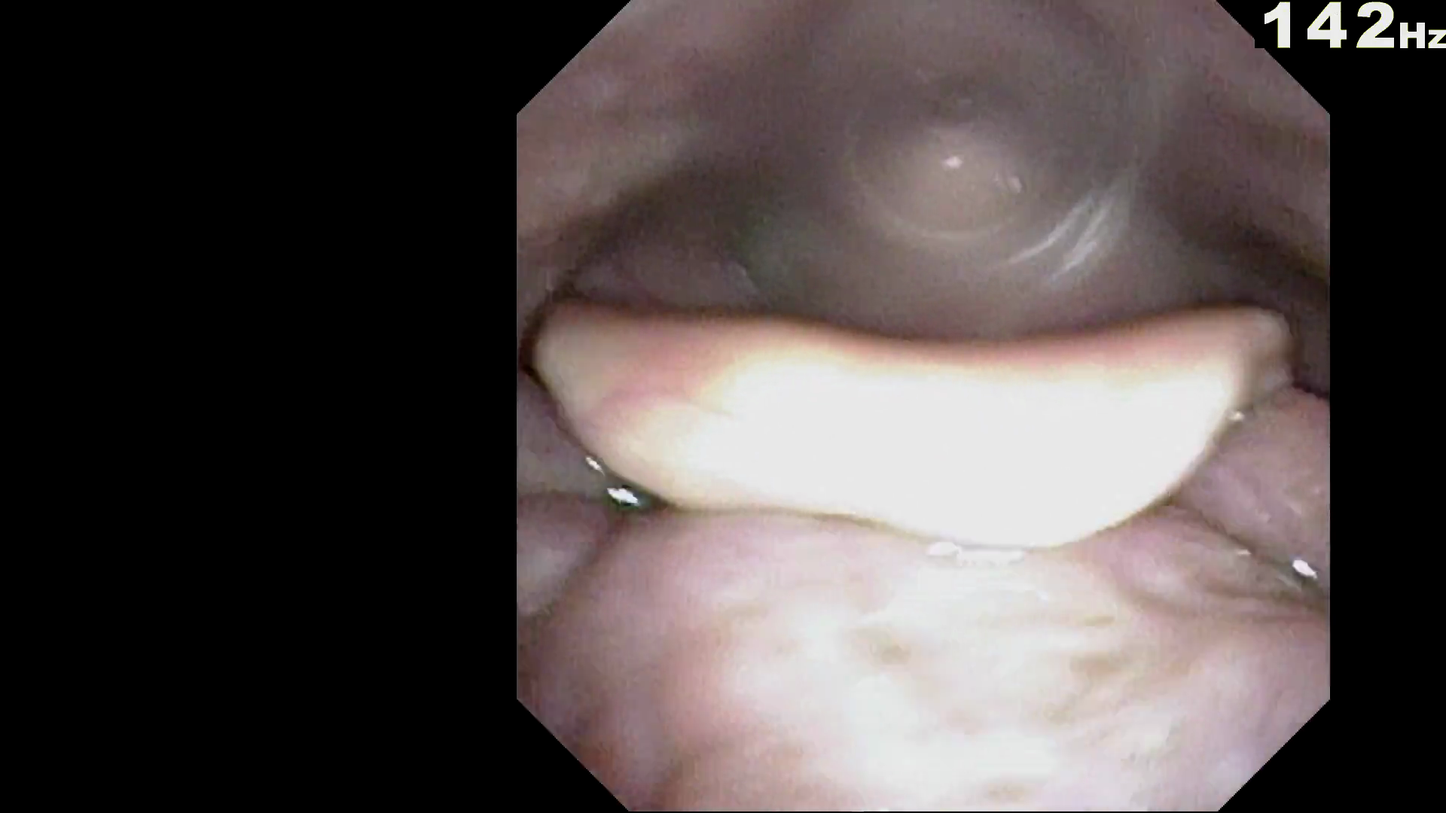epiglottis: (606, 320, 1221, 545)
